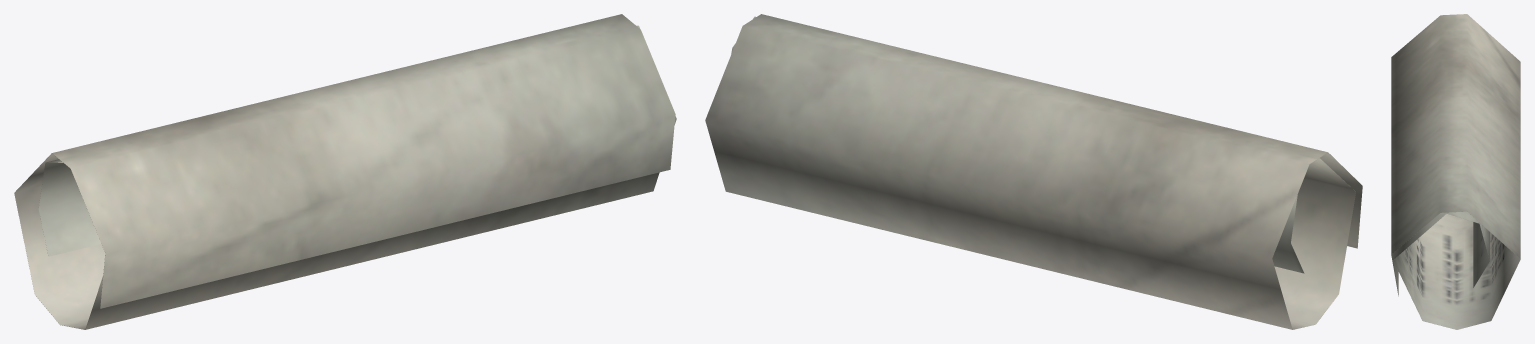
Rendered from Paper_L.obj.
3 views of the same model, side by side, from view 1: azimuth 30°, elevation 25°; view 2: azimuth 150°, elevation 25°; view 3: azimuth 270°, elevation 25° (orthographic). The views are drawn at different scales.
Parts seen in each view (by area): view 1: Paper_L; view 2: Paper_L; view 3: Paper_L.
Boxes of the visible parts, bbox=[...] form: Paper_L: bbox=[14, 14, 676, 329]; Paper_L: bbox=[705, 14, 1362, 329]; Paper_L: bbox=[1391, 14, 1520, 329].
Size of the model in its own units: 12.44 by 3.45 by 3.42.
